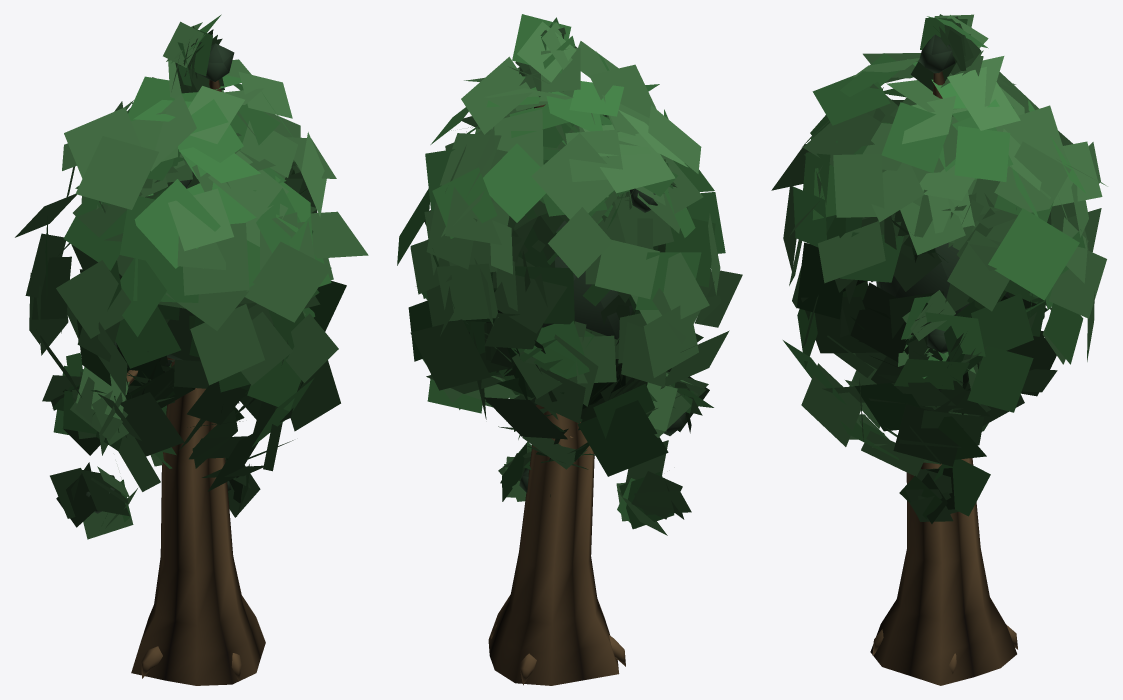
Rendered from tree-04.glb.
3 views of the same model, side by side, from view 1: azimuth 30°, elevation 25°; view 2: azimuth 150°, elevation 25°; view 3: azimuth 270°, elevation 25° (orthographic).
Visible parts, largest first — view 1: tree-04; view 2: tree-04; view 3: tree-04.
Part boxes in pixels (box(x1,y1,x2,y2)): tree-04: box(15, 14, 368, 685); tree-04: box(397, 14, 742, 685); tree-04: box(771, 14, 1107, 685).
Size of the model in its own units: 3.16 by 6.5 by 3.08.
